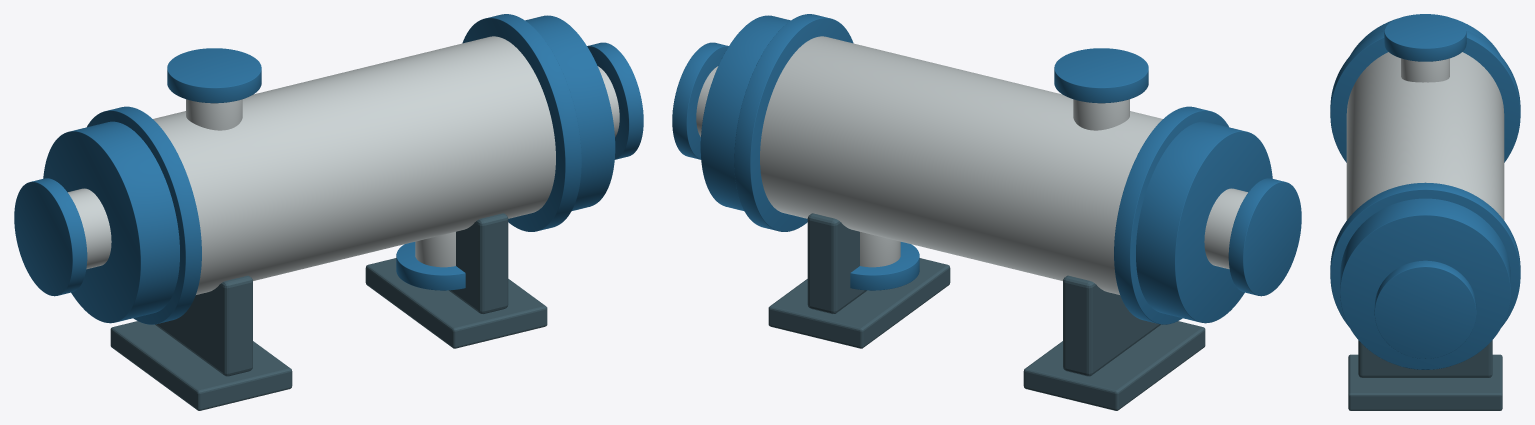
The model's file is shell_tube_heat_exchanger.glb.
The picture shows the model from 3 angles, left to right: view 1: azimuth 30°, elevation 25°; view 2: azimuth 150°, elevation 25°; view 3: azimuth 270°, elevation 25°; orthographic projection. The views are drawn at different scales.
Visible parts, largest first — view 1: SHELL, HEAD_LEFT, FOOT_-0.78, TUBESHEET_1.16, FOOT_0.78, HEAD_RIGHT, TUBE_FLANGE_-1.48, SADDLE_-0.78, TUBESHEET_-1.16, SADDLE_0.78, SHELL_FLANGE_-0.7, TUBE_FLANGE_1.48 (+4 smaller); view 2: SHELL, HEAD_LEFT, FOOT_-0.78, TUBESHEET_1.16, FOOT_0.78, HEAD_RIGHT, TUBE_FLANGE_-1.48, SADDLE_-0.78, TUBESHEET_-1.16, SADDLE_0.78, SHELL_FLANGE_-0.7, TUBE_FLANGE_1.48 (+4 smaller); view 3: SHELL, HEAD_RIGHT, TUBE_FLANGE_1.48, FOOT_0.78, TUBESHEET_-1.16, TUBESHEET_1.16, SHELL_FLANGE_-0.7, SADDLE_0.78, SHELL_NOZZLE_-0.7, HEAD_LEFT.
Boxes of the visible parts, bbox=[...] form: SHELL: bbox=[153, 36, 555, 294]; HEAD_LEFT: bbox=[43, 121, 179, 323]; FOOT_-0.78: bbox=[110, 321, 292, 410]; TUBESHEET_1.16: bbox=[462, 14, 581, 231]; FOOT_0.78: bbox=[365, 258, 547, 348]; HEAD_RIGHT: bbox=[525, 15, 615, 210]; TUBE_FLANGE_-1.48: bbox=[14, 178, 87, 296]; SADDLE_-0.78: bbox=[155, 275, 252, 376]; TUBESHEET_-1.16: bbox=[87, 106, 201, 324]; SADDLE_0.78: bbox=[449, 213, 508, 313]; SHELL_FLANGE_-0.7: bbox=[167, 48, 261, 103]; TUBE_FLANGE_1.48: bbox=[587, 42, 643, 159]; SHELL: bbox=[760, 36, 1162, 294]; HEAD_LEFT: bbox=[1136, 121, 1272, 323]; FOOT_-0.78: bbox=[1023, 321, 1205, 410]; TUBESHEET_1.16: bbox=[734, 14, 853, 231]; FOOT_0.78: bbox=[768, 258, 950, 348]; HEAD_RIGHT: bbox=[700, 15, 790, 210]; TUBE_FLANGE_-1.48: bbox=[1228, 178, 1301, 296]; SADDLE_-0.78: bbox=[1063, 275, 1160, 376]; TUBESHEET_-1.16: bbox=[1114, 106, 1228, 324]; SADDLE_0.78: bbox=[807, 213, 866, 313]; SHELL_FLANGE_-0.7: bbox=[1054, 48, 1148, 103]; TUBE_FLANGE_1.48: bbox=[672, 42, 728, 159]; SHELL: bbox=[1346, 52, 1504, 220]; HEAD_RIGHT: bbox=[1340, 198, 1510, 369]; TUBE_FLANGE_1.48: bbox=[1374, 260, 1476, 358]; FOOT_0.78: bbox=[1348, 354, 1502, 410]; TUBESHEET_-1.16: bbox=[1330, 30, 1520, 162]; TUBESHEET_1.16: bbox=[1330, 182, 1520, 326]; SHELL_FLANGE_-0.7: bbox=[1384, 14, 1466, 61]; SADDLE_0.78: bbox=[1358, 340, 1492, 377]; SHELL_NOZZLE_-0.7: bbox=[1401, 58, 1449, 82]; HEAD_LEFT: bbox=[1350, 18, 1500, 55].
Size of the model in its own units: 3.49 by 1.74 by 1.16.
